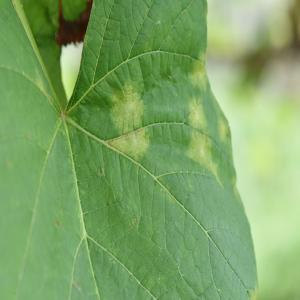Folha: (0, 0, 259, 299)
Fungo: (183, 97, 224, 189), (106, 82, 150, 163), (54, 0, 91, 46), (105, 126, 150, 163), (188, 48, 210, 92)
